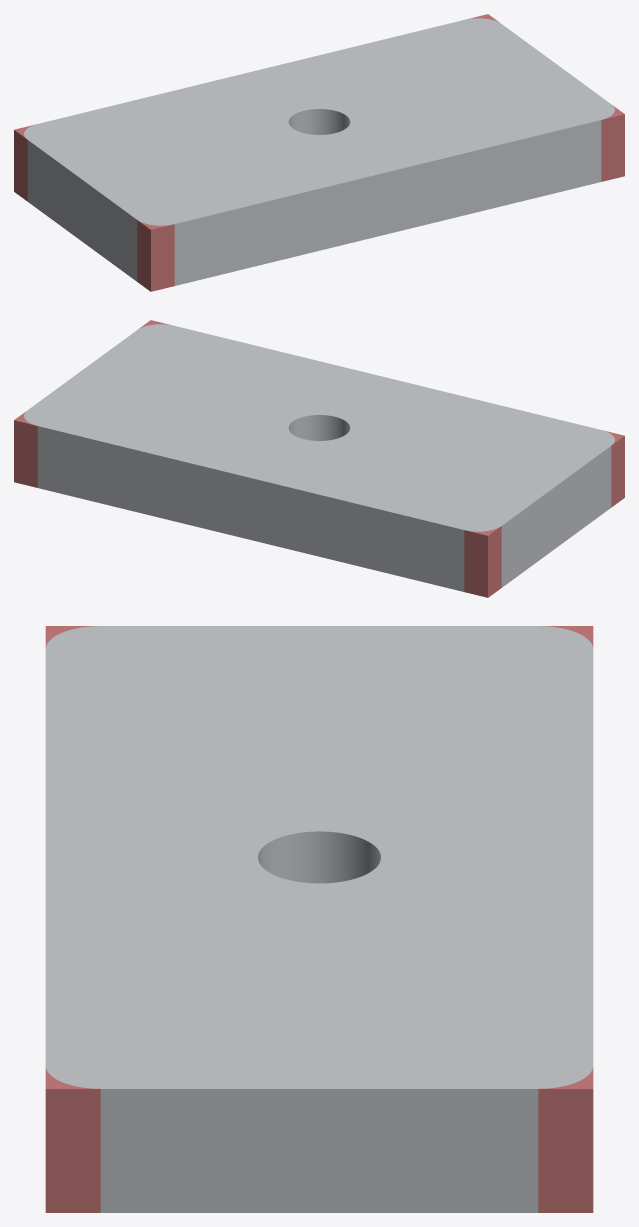
Rendered from step_04.glb.
3 views of the same model, one above another, from view 1: azimuth 30°, elevation 25°; view 2: azimuth 150°, elevation 25°; view 3: azimuth 270°, elevation 25° (orthographic). The views are drawn at different scales.
Visible parts, largest first — view 1: part__plate, removed__plate; view 2: part__plate, removed__plate; view 3: part__plate, removed__plate.
Part boxes in pixels (x1=…): part__plate: x1=24, y1=18, x2=614, y2=285; removed__plate: x1=14, y1=14, x2=624, y2=291; part__plate: x1=24, y1=324, x2=614, y2=591; removed__plate: x1=14, y1=320, x2=624, y2=597; part__plate: x1=45, y1=626, x2=593, y2=1212; removed__plate: x1=45, y1=626, x2=593, y2=1212.
Size of the model in its own units: 80 by 10 by 40.
